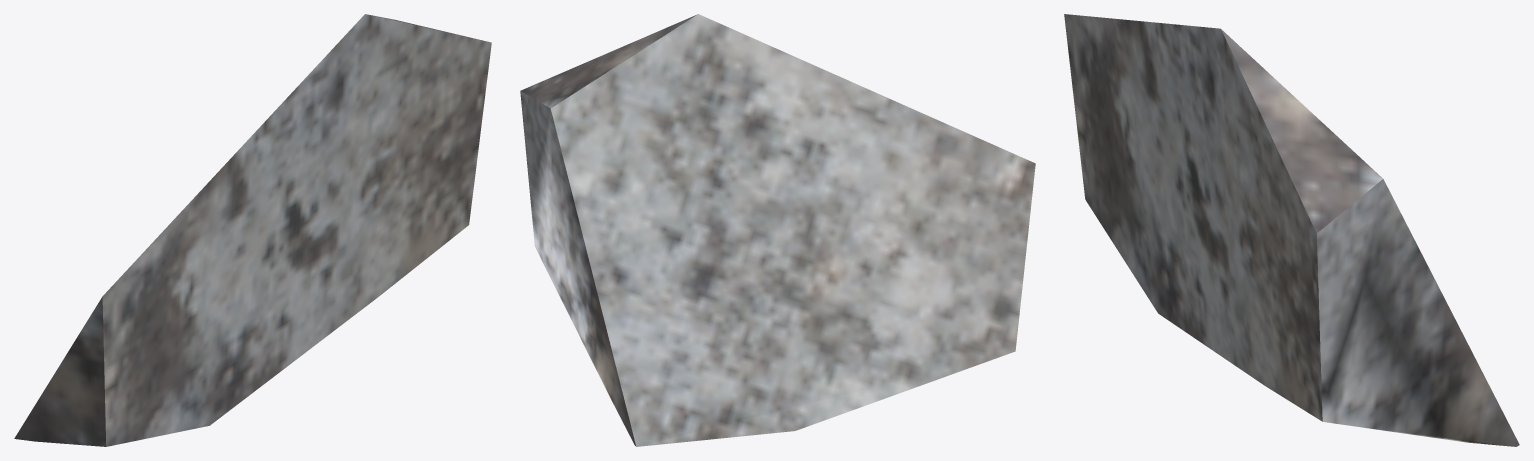
File: Asteroid_Large_001_02_008_03_008.fbx
3 views of the same model, side by side, from view 1: azimuth 30°, elevation 25°; view 2: azimuth 150°, elevation 25°; view 3: azimuth 270°, elevation 25° (orthographic). The views are drawn at different scales.
Visible parts, largest first — view 1: Asteroid_Large_001_02_008_03_008; view 2: Asteroid_Large_001_02_008_03_008; view 3: Asteroid_Large_001_02_008_03_008.
Part boxes in pixels (x1,y1,x2,y2): Asteroid_Large_001_02_008_03_008: (14,14,491,446); Asteroid_Large_001_02_008_03_008: (520,14,1035,446); Asteroid_Large_001_02_008_03_008: (1064,14,1519,446).
Bounding box in the file's own units: 4.37 × 3.15 × 2.9.
